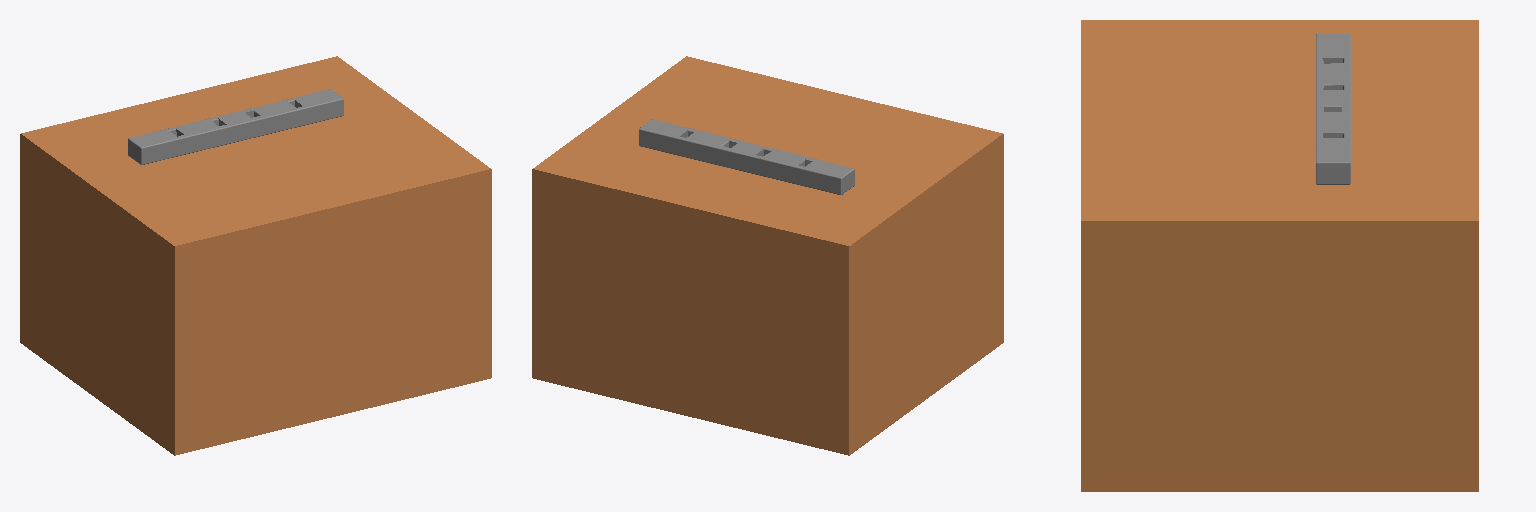
The robot description file, URDF, robot "table_beam_2x_2_scene_0090":
<?xml version="1.0"?>
<robot name="table_beam_2x_2_scene_0090">
  <link name="box">
    <visual>
      <material name="wood"><color rgba="0.82 0.56 0.35 1.0"/></material>
      <origin xyz="0 0 0"/>
      <geometry><box size="0.475 0.4 0.3"/></geometry>
    </visual>
    <collision>
      <origin xyz="0 0 0"/>
      <geometry><box size="0.475 0.4 0.3"/></geometry>
    </collision>
    <inertial>
      <mass value="500"/>
      <friction value="1.0"/>
      <inertia ixx="1000.0" ixy="0.0" ixz="0.0" iyy="1000.0" iyz="0.0" izz="1000.0"/>
    </inertial>
  </link>
  <link name="part_6_hull_0">
    <visual>
      <origin xyz="0 0 0" rpy="0 0 0"/>
      <geometry><mesh filename="../../6/coacd/decomp_0.obj" scale="1 1 1"/></geometry>
      <material name="placed_0"><color rgba="0.6 0.6 0.6 1.0"/></material>
    </visual>
    <collision>
      <origin xyz="0 0 0" rpy="0 0 0"/>
      <geometry><mesh filename="../../6/coacd/decomp_0.obj" scale="1 1 1"/></geometry>
    </collision>
  </link>
  <joint name="part_6_hull_0_joint" type="fixed">
    <parent link="box"/>
    <child link="part_6_hull_0"/>
    <origin xyz="0.001111 0.053508 0.162666" rpy="0.000000 0.000000 0.000000"/>
  </joint>
  <link name="part_6_hull_1">
    <visual>
      <origin xyz="0 0 0" rpy="0 0 0"/>
      <geometry><mesh filename="../../6/coacd/decomp_1.obj" scale="1 1 1"/></geometry>
      <material name="placed_1"><color rgba="0.6 0.6 0.6 1.0"/></material>
    </visual>
    <collision>
      <origin xyz="0 0 0" rpy="0 0 0"/>
      <geometry><mesh filename="../../6/coacd/decomp_1.obj" scale="1 1 1"/></geometry>
    </collision>
  </link>
  <joint name="part_6_hull_1_joint" type="fixed">
    <parent link="box"/>
    <child link="part_6_hull_1"/>
    <origin xyz="0.001111 0.053508 0.162666" rpy="0.000000 0.000000 0.000000"/>
  </joint>
  <link name="part_6_hull_2">
    <visual>
      <origin xyz="0 0 0" rpy="0 0 0"/>
      <geometry><mesh filename="../../6/coacd/decomp_10.obj" scale="1 1 1"/></geometry>
      <material name="placed_2"><color rgba="0.6 0.6 0.6 1.0"/></material>
    </visual>
    <collision>
      <origin xyz="0 0 0" rpy="0 0 0"/>
      <geometry><mesh filename="../../6/coacd/decomp_10.obj" scale="1 1 1"/></geometry>
    </collision>
  </link>
  <joint name="part_6_hull_2_joint" type="fixed">
    <parent link="box"/>
    <child link="part_6_hull_2"/>
    <origin xyz="0.001111 0.053508 0.162666" rpy="0.000000 0.000000 0.000000"/>
  </joint>
  <link name="part_6_hull_3">
    <visual>
      <origin xyz="0 0 0" rpy="0 0 0"/>
      <geometry><mesh filename="../../6/coacd/decomp_11.obj" scale="1 1 1"/></geometry>
      <material name="placed_3"><color rgba="0.6 0.6 0.6 1.0"/></material>
    </visual>
    <collision>
      <origin xyz="0 0 0" rpy="0 0 0"/>
      <geometry><mesh filename="../../6/coacd/decomp_11.obj" scale="1 1 1"/></geometry>
    </collision>
  </link>
  <joint name="part_6_hull_3_joint" type="fixed">
    <parent link="box"/>
    <child link="part_6_hull_3"/>
    <origin xyz="0.001111 0.053508 0.162666" rpy="0.000000 0.000000 0.000000"/>
  </joint>
  <link name="part_6_hull_4">
    <visual>
      <origin xyz="0 0 0" rpy="0 0 0"/>
      <geometry><mesh filename="../../6/coacd/decomp_12.obj" scale="1 1 1"/></geometry>
      <material name="placed_4"><color rgba="0.6 0.6 0.6 1.0"/></material>
    </visual>
    <collision>
      <origin xyz="0 0 0" rpy="0 0 0"/>
      <geometry><mesh filename="../../6/coacd/decomp_12.obj" scale="1 1 1"/></geometry>
    </collision>
  </link>
  <joint name="part_6_hull_4_joint" type="fixed">
    <parent link="box"/>
    <child link="part_6_hull_4"/>
    <origin xyz="0.001111 0.053508 0.162666" rpy="0.000000 0.000000 0.000000"/>
  </joint>
  <link name="part_6_hull_5">
    <visual>
      <origin xyz="0 0 0" rpy="0 0 0"/>
      <geometry><mesh filename="../../6/coacd/decomp_13.obj" scale="1 1 1"/></geometry>
      <material name="placed_5"><color rgba="0.6 0.6 0.6 1.0"/></material>
    </visual>
    <collision>
      <origin xyz="0 0 0" rpy="0 0 0"/>
      <geometry><mesh filename="../../6/coacd/decomp_13.obj" scale="1 1 1"/></geometry>
    </collision>
  </link>
  <joint name="part_6_hull_5_joint" type="fixed">
    <parent link="box"/>
    <child link="part_6_hull_5"/>
    <origin xyz="0.001111 0.053508 0.162666" rpy="0.000000 0.000000 0.000000"/>
  </joint>
  <link name="part_6_hull_6">
    <visual>
      <origin xyz="0 0 0" rpy="0 0 0"/>
      <geometry><mesh filename="../../6/coacd/decomp_2.obj" scale="1 1 1"/></geometry>
      <material name="placed_6"><color rgba="0.6 0.6 0.6 1.0"/></material>
    </visual>
    <collision>
      <origin xyz="0 0 0" rpy="0 0 0"/>
      <geometry><mesh filename="../../6/coacd/decomp_2.obj" scale="1 1 1"/></geometry>
    </collision>
  </link>
  <joint name="part_6_hull_6_joint" type="fixed">
    <parent link="box"/>
    <child link="part_6_hull_6"/>
    <origin xyz="0.001111 0.053508 0.162666" rpy="0.000000 0.000000 0.000000"/>
  </joint>
  <link name="part_6_hull_7">
    <visual>
      <origin xyz="0 0 0" rpy="0 0 0"/>
      <geometry><mesh filename="../../6/coacd/decomp_3.obj" scale="1 1 1"/></geometry>
      <material name="placed_7"><color rgba="0.6 0.6 0.6 1.0"/></material>
    </visual>
    <collision>
      <origin xyz="0 0 0" rpy="0 0 0"/>
      <geometry><mesh filename="../../6/coacd/decomp_3.obj" scale="1 1 1"/></geometry>
    </collision>
  </link>
  <joint name="part_6_hull_7_joint" type="fixed">
    <parent link="box"/>
    <child link="part_6_hull_7"/>
    <origin xyz="0.001111 0.053508 0.162666" rpy="0.000000 0.000000 0.000000"/>
  </joint>
  <link name="part_6_hull_8">
    <visual>
      <origin xyz="0 0 0" rpy="0 0 0"/>
      <geometry><mesh filename="../../6/coacd/decomp_4.obj" scale="1 1 1"/></geometry>
      <material name="placed_8"><color rgba="0.6 0.6 0.6 1.0"/></material>
    </visual>
    <collision>
      <origin xyz="0 0 0" rpy="0 0 0"/>
      <geometry><mesh filename="../../6/coacd/decomp_4.obj" scale="1 1 1"/></geometry>
    </collision>
  </link>
  <joint name="part_6_hull_8_joint" type="fixed">
    <parent link="box"/>
    <child link="part_6_hull_8"/>
    <origin xyz="0.001111 0.053508 0.162666" rpy="0.000000 0.000000 0.000000"/>
  </joint>
  <link name="part_6_hull_9">
    <visual>
      <origin xyz="0 0 0" rpy="0 0 0"/>
      <geometry><mesh filename="../../6/coacd/decomp_5.obj" scale="1 1 1"/></geometry>
      <material name="placed_9"><color rgba="0.6 0.6 0.6 1.0"/></material>
    </visual>
    <collision>
      <origin xyz="0 0 0" rpy="0 0 0"/>
      <geometry><mesh filename="../../6/coacd/decomp_5.obj" scale="1 1 1"/></geometry>
    </collision>
  </link>
  <joint name="part_6_hull_9_joint" type="fixed">
    <parent link="box"/>
    <child link="part_6_hull_9"/>
    <origin xyz="0.001111 0.053508 0.162666" rpy="0.000000 0.000000 0.000000"/>
  </joint>
  <link name="part_6_hull_10">
    <visual>
      <origin xyz="0 0 0" rpy="0 0 0"/>
      <geometry><mesh filename="../../6/coacd/decomp_6.obj" scale="1 1 1"/></geometry>
      <material name="placed_10"><color rgba="0.6 0.6 0.6 1.0"/></material>
    </visual>
    <collision>
      <origin xyz="0 0 0" rpy="0 0 0"/>
      <geometry><mesh filename="../../6/coacd/decomp_6.obj" scale="1 1 1"/></geometry>
    </collision>
  </link>
  <joint name="part_6_hull_10_joint" type="fixed">
    <parent link="box"/>
    <child link="part_6_hull_10"/>
    <origin xyz="0.001111 0.053508 0.162666" rpy="0.000000 0.000000 0.000000"/>
  </joint>
  <link name="part_6_hull_11">
    <visual>
      <origin xyz="0 0 0" rpy="0 0 0"/>
      <geometry><mesh filename="../../6/coacd/decomp_7.obj" scale="1 1 1"/></geometry>
      <material name="placed_11"><color rgba="0.6 0.6 0.6 1.0"/></material>
    </visual>
    <collision>
      <origin xyz="0 0 0" rpy="0 0 0"/>
      <geometry><mesh filename="../../6/coacd/decomp_7.obj" scale="1 1 1"/></geometry>
    </collision>
  </link>
  <joint name="part_6_hull_11_joint" type="fixed">
    <parent link="box"/>
    <child link="part_6_hull_11"/>
    <origin xyz="0.001111 0.053508 0.162666" rpy="0.000000 0.000000 0.000000"/>
  </joint>
  <link name="part_6_hull_12">
    <visual>
      <origin xyz="0 0 0" rpy="0 0 0"/>
      <geometry><mesh filename="../../6/coacd/decomp_8.obj" scale="1 1 1"/></geometry>
      <material name="placed_12"><color rgba="0.6 0.6 0.6 1.0"/></material>
    </visual>
    <collision>
      <origin xyz="0 0 0" rpy="0 0 0"/>
      <geometry><mesh filename="../../6/coacd/decomp_8.obj" scale="1 1 1"/></geometry>
    </collision>
  </link>
  <joint name="part_6_hull_12_joint" type="fixed">
    <parent link="box"/>
    <child link="part_6_hull_12"/>
    <origin xyz="0.001111 0.053508 0.162666" rpy="0.000000 0.000000 0.000000"/>
  </joint>
  <link name="part_6_hull_13">
    <visual>
      <origin xyz="0 0 0" rpy="0 0 0"/>
      <geometry><mesh filename="../../6/coacd/decomp_9.obj" scale="1 1 1"/></geometry>
      <material name="placed_13"><color rgba="0.6 0.6 0.6 1.0"/></material>
    </visual>
    <collision>
      <origin xyz="0 0 0" rpy="0 0 0"/>
      <geometry><mesh filename="../../6/coacd/decomp_9.obj" scale="1 1 1"/></geometry>
    </collision>
  </link>
  <joint name="part_6_hull_13_joint" type="fixed">
    <parent link="box"/>
    <child link="part_6_hull_13"/>
    <origin xyz="0.001111 0.053508 0.162666" rpy="0.000000 0.000000 0.000000"/>
  </joint>
</robot>

--- What the picture shows (computed from the rendered views, not written in the file) ---
Views: 3 orthographic renders of the robot side by side, from view 1: azimuth 30°, elevation 25°; view 2: azimuth 150°, elevation 25°; view 3: azimuth 270°, elevation 25°.
Model table_beam_2x_2_scene_0090 with 15 links and 14 joints (14 fixed), rooted at box, posed every joint at zero.
Links seen in each view (by area): view 1: box, part_6_hull_1, part_6_hull_0, part_6_hull_9, part_6_hull_5, part_6_hull_3; view 2: box, part_6_hull_1, part_6_hull_0, part_6_hull_2, part_6_hull_5, part_6_hull_12; view 3: box, part_6_hull_0, part_6_hull_1, part_6_hull_5, part_6_hull_2.
Link boxes in pixels (<box>): box: <box>20,56,491,455</box>; part_6_hull_1: <box>128,129,179,164</box>; part_6_hull_0: <box>293,89,343,124</box>; part_6_hull_9: <box>178,125,229,155</box>; part_6_hull_5: <box>259,100,298,132</box>; part_6_hull_3: <box>231,114,271,142</box>; box: <box>532,56,1003,455</box>; part_6_hull_1: <box>803,159,854,194</box>; part_6_hull_0: <box>639,119,689,154</box>; part_6_hull_2: <box>760,151,805,183</box>; part_6_hull_5: <box>684,130,722,163</box>; part_6_hull_12: <box>711,144,751,172</box>; box: <box>1081,20,1478,491</box>; part_6_hull_0: <box>1316,138,1350,184</box>; part_6_hull_1: <box>1316,34,1350,63</box>; part_6_hull_5: <box>1316,116,1350,137</box>; part_6_hull_2: <box>1324,63,1350,89</box>.
Size in the robot's own frame: 0.475 by 0.4 by 0.3254 metres.
14 mesh visuals loaded from 14 distinct referenced files (14 OBJ).
